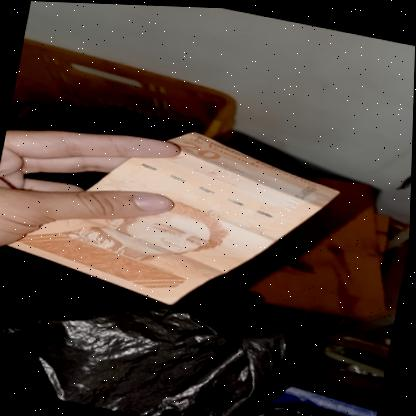twenty-front-vef: (0, 98, 348, 332)
